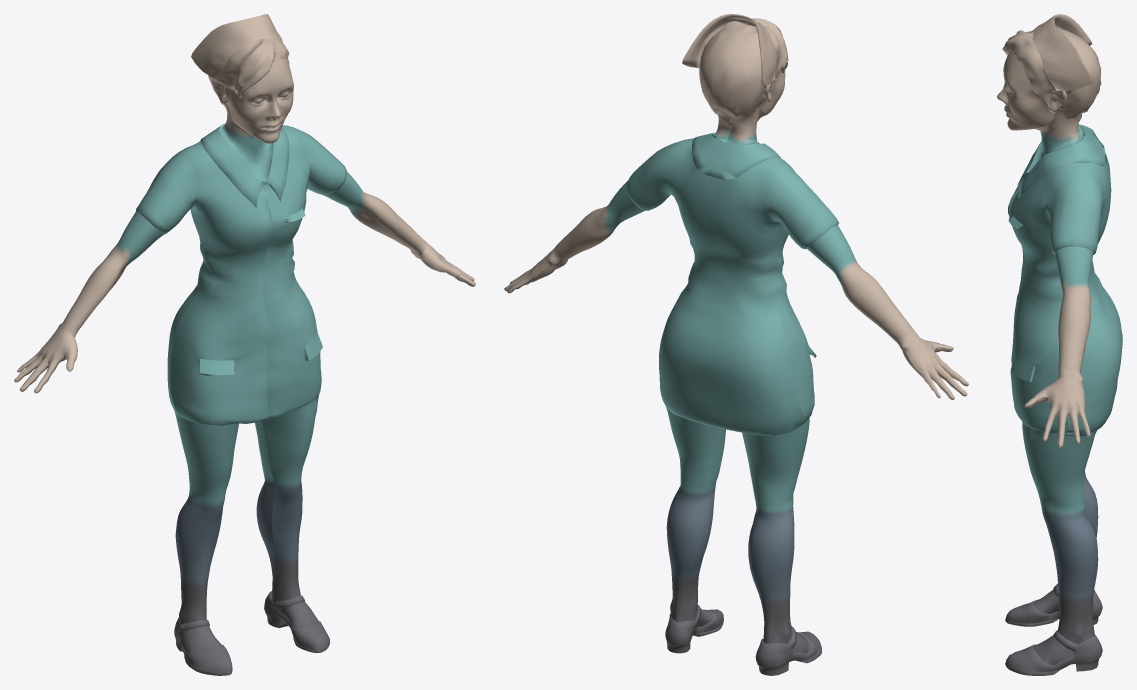
The model's file is nurse.glb.
The picture shows the model from 3 angles, left to right: view 1: azimuth 30°, elevation 25°; view 2: azimuth 150°, elevation 25°; view 3: azimuth 270°, elevation 25°; orthographic projection.
Parts seen in each view (by area): view 1: MEDICAL_SISTER.obj; view 2: MEDICAL_SISTER.obj; view 3: MEDICAL_SISTER.obj.
Boxes of the visible parts, box(x1,y1,x2,y2) form: MEDICAL_SISTER.obj: box(14, 14, 475, 675); MEDICAL_SISTER.obj: box(504, 14, 968, 675); MEDICAL_SISTER.obj: box(997, 14, 1122, 675).
Size of the model in its own units: 1.51 by 2 by 0.3655.
